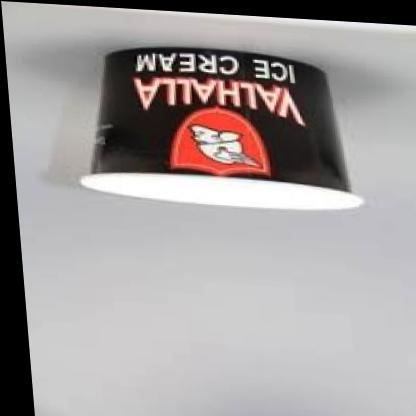Plastic: (61, 26, 377, 232)
